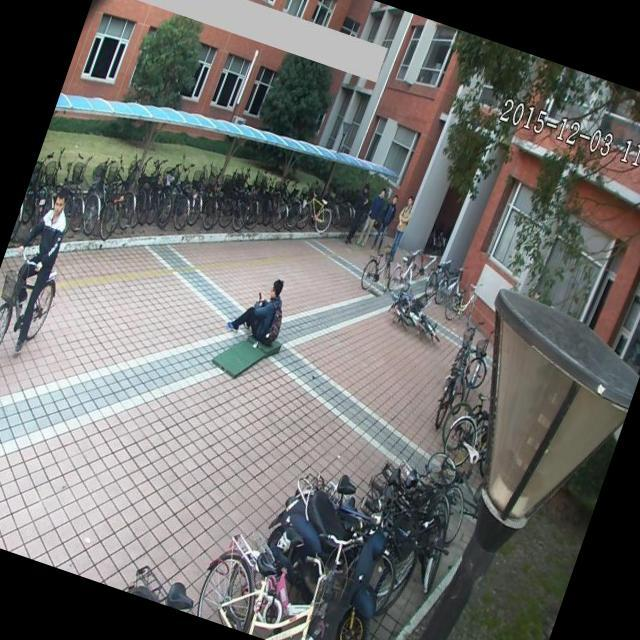person: (0, 174, 82, 356), (222, 260, 294, 348), (380, 192, 421, 270), (352, 182, 391, 250), (341, 172, 376, 245), (368, 189, 406, 256)
